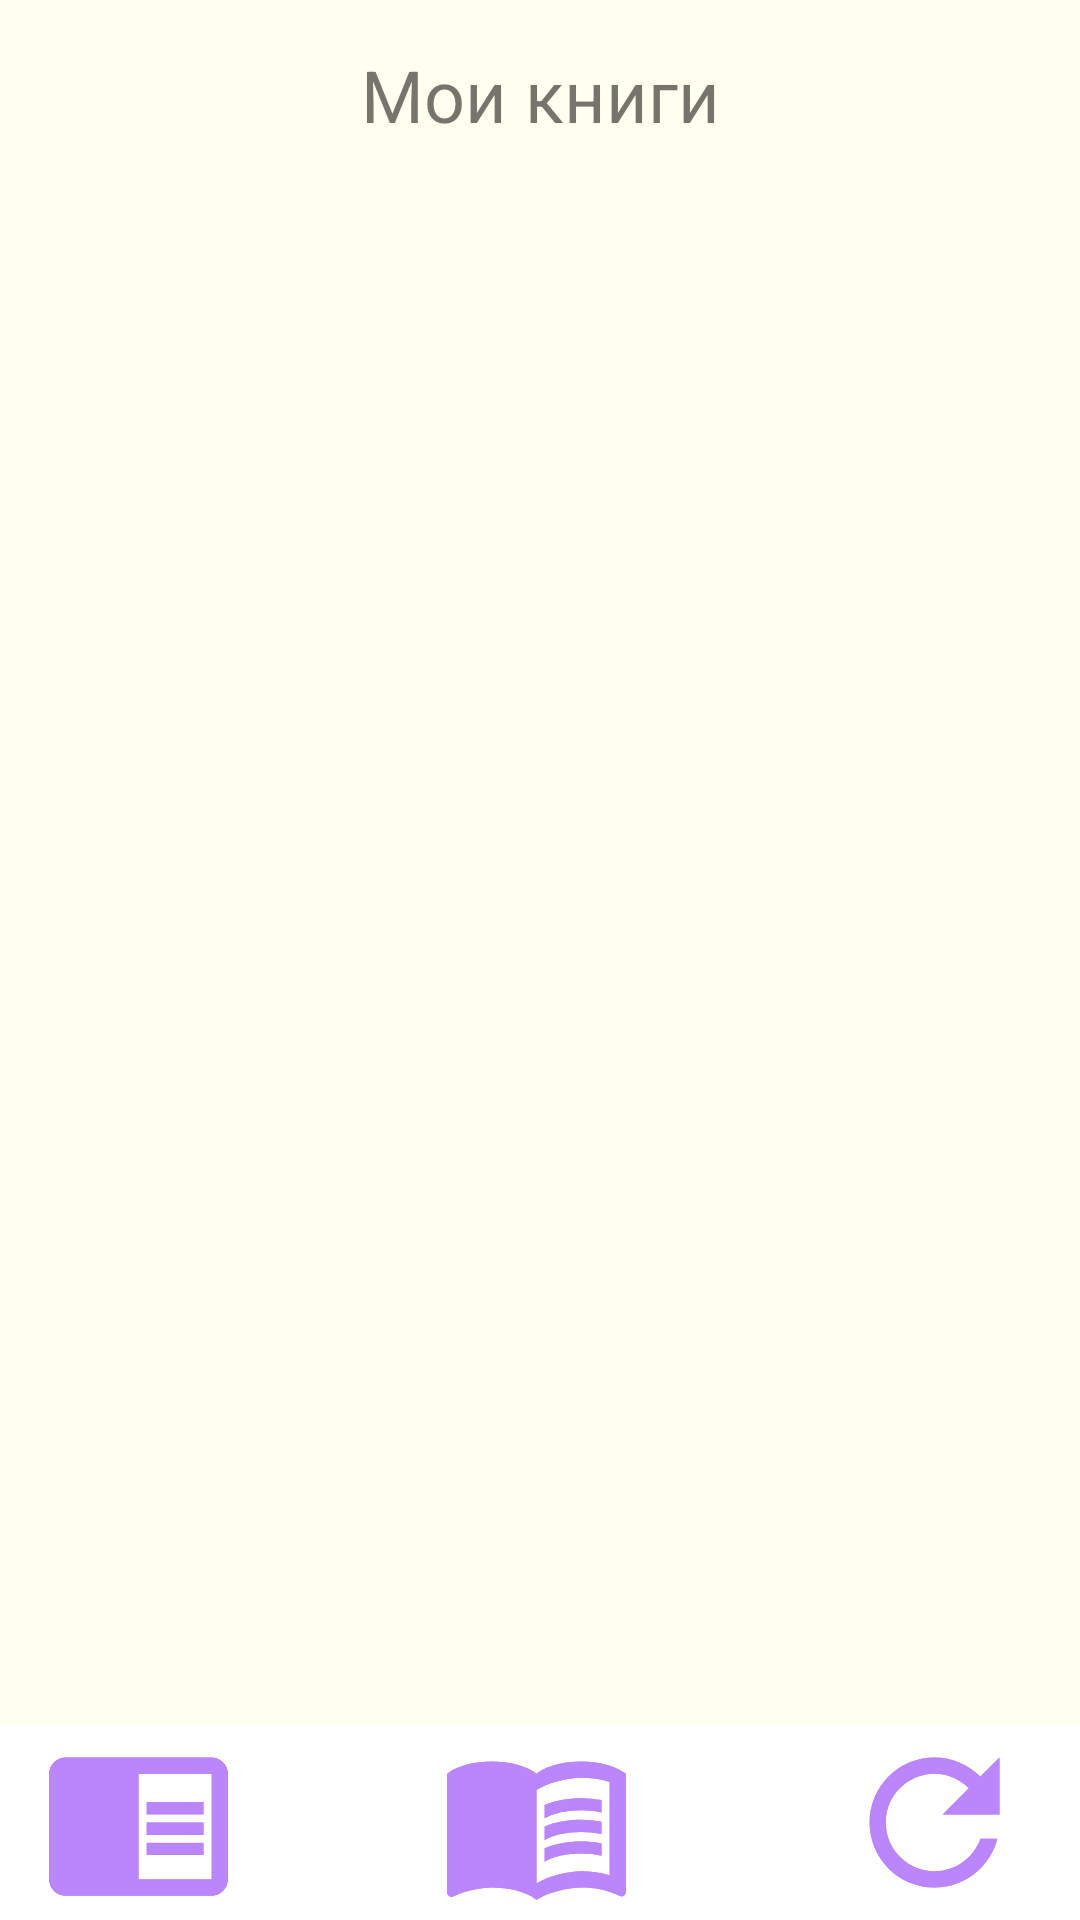

Where icons sit on this 1080 × 1920 app screen, as (x1, y1, x2, y2):
Books: (447, 1761, 626, 1900)
